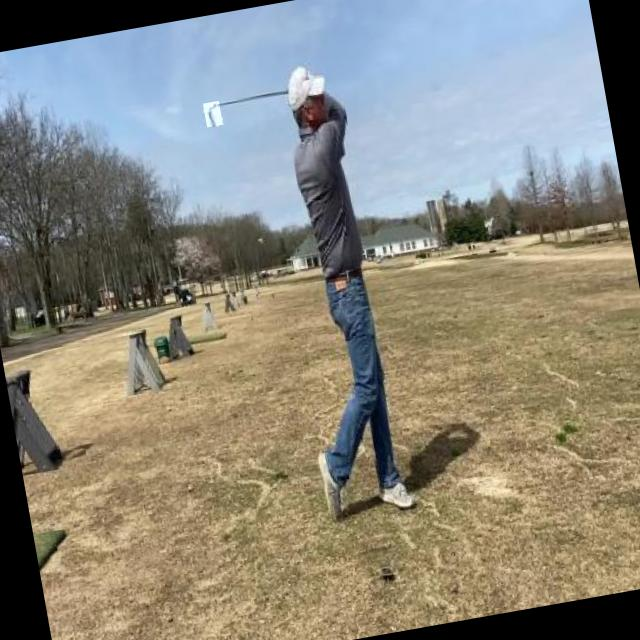club head: (202, 101, 222, 127)
